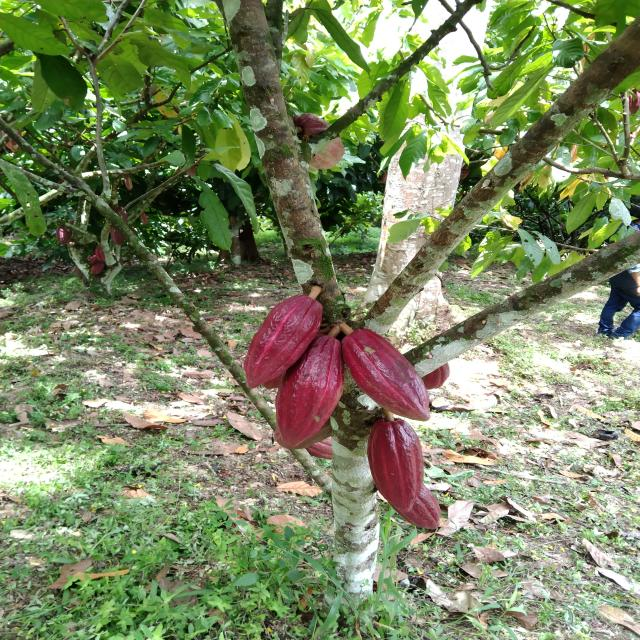Sana: (334, 323, 434, 423), (276, 334, 342, 448), (236, 296, 321, 384), (368, 418, 422, 514), (396, 484, 441, 530), (296, 109, 330, 138), (418, 363, 452, 387)
